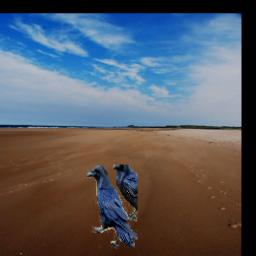Crow: (86, 166, 138, 250)
